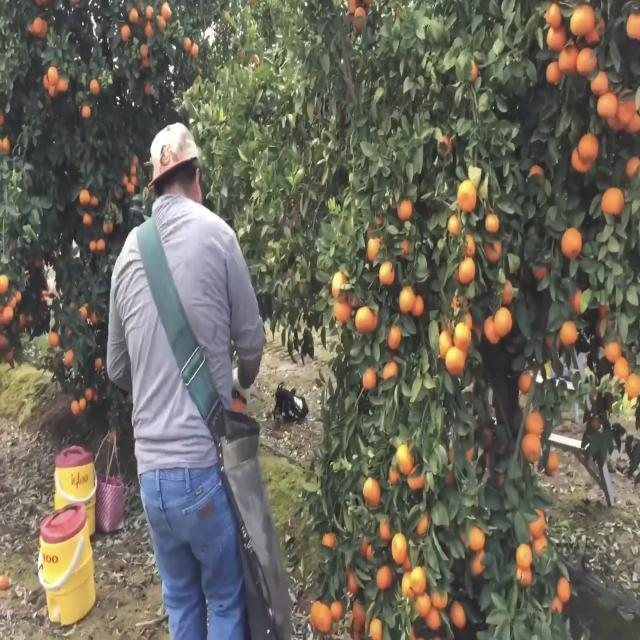Jeruk Sudah Matang: (568, 1, 602, 38), (600, 177, 626, 222), (450, 317, 476, 360), (480, 308, 505, 348), (574, 44, 601, 78), (560, 224, 584, 262), (556, 312, 580, 350), (454, 176, 478, 214), (387, 530, 410, 568), (353, 304, 380, 336), (576, 130, 602, 163), (520, 428, 544, 463), (455, 255, 480, 288), (545, 19, 570, 52), (492, 302, 514, 338), (596, 88, 620, 121), (312, 600, 334, 636), (544, 55, 566, 90), (436, 324, 456, 362), (396, 440, 416, 478), (558, 41, 584, 70), (444, 344, 466, 378), (331, 292, 353, 326), (360, 474, 382, 508), (464, 523, 491, 550), (588, 65, 610, 98), (448, 596, 469, 630), (376, 258, 398, 289), (524, 407, 546, 438), (514, 560, 536, 591), (528, 506, 546, 542), (398, 283, 418, 314), (408, 565, 428, 596), (364, 231, 382, 265), (515, 544, 535, 574), (544, 3, 564, 33), (482, 208, 503, 236), (331, 268, 352, 296), (623, 369, 640, 402), (385, 322, 403, 353), (544, 449, 560, 483), (367, 615, 388, 640), (375, 560, 393, 589), (556, 576, 574, 603), (604, 339, 623, 364), (396, 198, 414, 224), (612, 353, 629, 380), (361, 363, 376, 391), (518, 368, 534, 394), (382, 358, 398, 383), (46, 61, 60, 88), (410, 290, 425, 314), (76, 186, 92, 206), (61, 346, 74, 370), (160, 0, 174, 22), (88, 76, 102, 95), (48, 328, 59, 350), (76, 398, 91, 413), (80, 103, 94, 119), (68, 398, 82, 414), (119, 24, 132, 41), (80, 212, 94, 225), (96, 237, 105, 252), (89, 238, 97, 254), (84, 386, 92, 398)
